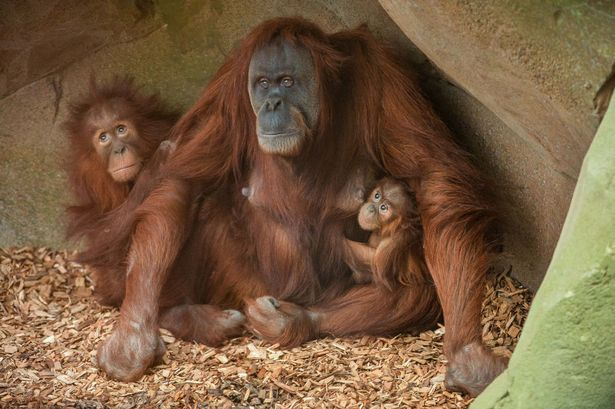Orangutan: (189, 26, 487, 349), (63, 85, 170, 252), (351, 181, 457, 306)
